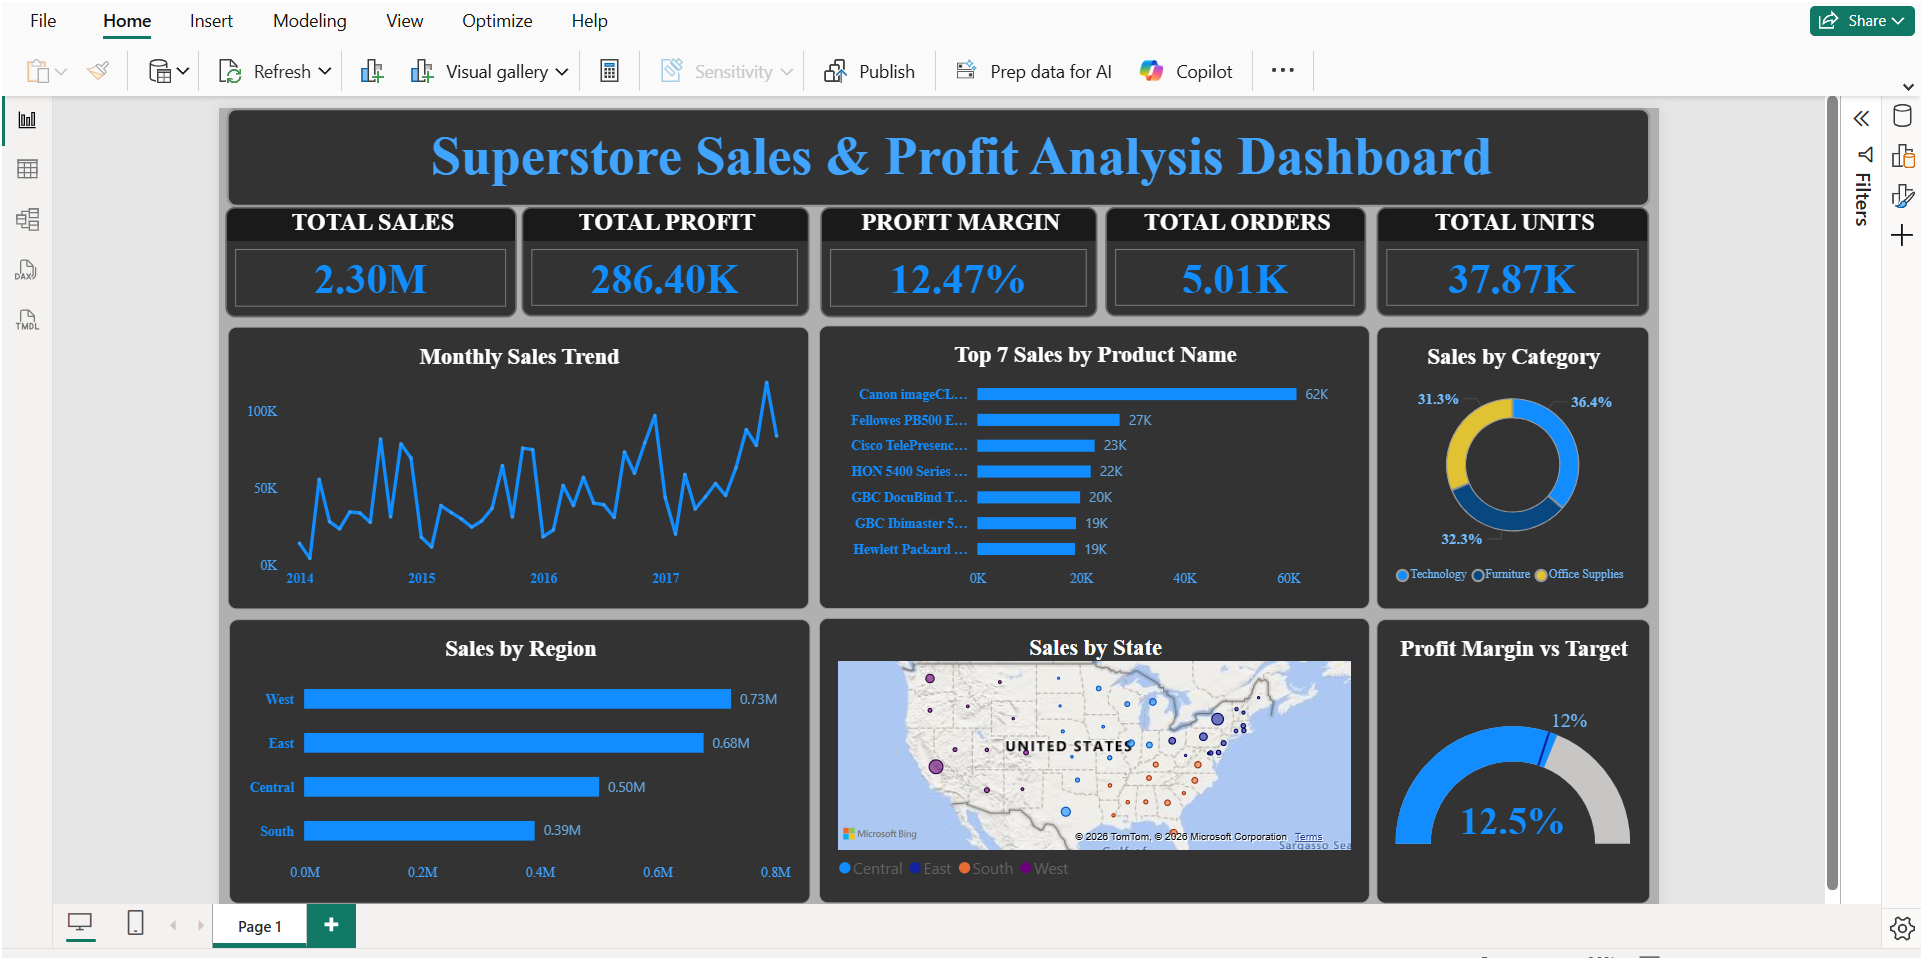

The dashboard page shown, as its layout file describes it:
{"tool":"powerbi","page":{"name":"Page 1","canvas":[1280,720],"ordinal":0},"visuals":[{"type":"cardVisual","title":"TOTAL SALES","fields":{"Data":["Sum(superstore_clean_data.Sales)"]},"box":[5.7,88.3,259,98],"z":0},{"type":"cardVisual","title":"TOTAL PROFIT","fields":{"Data":["Sum(superstore_clean_data.Profit)"]},"box":[269,88.1,255.8,97.7],"z":1000},{"type":"cardVisual","title":"PROFIT MARGIN","fields":{"Data":["superstore_clean_data.Profit Margin %"]},"box":[534.7,88.3,246.7,98.1],"z":2000},{"type":"cardVisual","title":"TOTAL ORDERS","fields":{"Data":["superstore_clean_data.Total Orders"]},"box":[787.8,88.1,231.6,97.7],"z":3000},{"type":"cardVisual","title":"TOTAL UNITS","fields":{"Data":["Sum(superstore_clean_data.Quantity)"]},"box":[1029.1,88.1,242.5,97.7],"z":4000},{"type":"lineChart","title":"Monthly Sales Trend","fields":{"Category":["superstore_clean_data.Order Date.Variation.Date Hierarchy.Year","superstore_clean_data.Order Date.Variation.Date Hierarchy.Month"],"Y":["Sum(superstore_clean_data.Sales)"]},"box":[7.9,194.7,517.1,251.3],"z":5000},{"type":"clusteredBarChart","title":"Sales by Region","fields":{"Category":["superstore_clean_data.Region"],"Y":["Sum(superstore_clean_data.Sales)"]},"box":[9.2,453.9,517.1,252.6],"z":5001},{"type":"donutChart","title":"Sales by Category","fields":{"Category":["superstore_clean_data.Category"],"Y":["Sum(superstore_clean_data.Sales)"]},"box":[1029.1,194.2,242.5,250.9],"z":5002},{"type":"clusteredBarChart","title":"Top 7 Sales by Product Name","fields":{"Category":["superstore_clean_data.Product Name"],"Y":["Sum(superstore_clean_data.Sales)"]},"box":[533.2,193,489.8,252.1],"z":5003},{"type":"gauge","title":"Profit Margin vs Target","fields":{"Y":["superstore_clean_data.Profit Margin %"]},"box":[1028.6,454.3,242.9,252.9],"z":5004},{"type":"map","title":"Sales by State","fields":{"Category":["superstore_clean_data.State"],"Series":["superstore_clean_data.Region"],"Size":["Sum(superstore_clean_data.Sales)"]},"box":[533.2,453.6,489.8,253.4],"z":5005},{"type":"shape","box":[7,0,1265.6,88.1],"z":5006},{"type":"textbox","box":[160,15,1000,60],"z":5007}]}

Visuals, with their boxes on the page's 1280x720 design canvas (x1, y1, x2, y2). These are canvas units, not pixel positions in the 1923x960 screenshot, which may show the page scaled, cropped or inside an application window:
"TOTAL SALES" cardVisual: (x1=6, y1=88, x2=265, y2=186)
"TOTAL PROFIT" cardVisual: (x1=269, y1=88, x2=525, y2=186)
"PROFIT MARGIN" cardVisual: (x1=535, y1=88, x2=781, y2=186)
"TOTAL ORDERS" cardVisual: (x1=788, y1=88, x2=1019, y2=186)
"TOTAL UNITS" cardVisual: (x1=1029, y1=88, x2=1272, y2=186)
"Monthly Sales Trend" lineChart: (x1=8, y1=195, x2=525, y2=446)
"Sales by Region" clusteredBarChart: (x1=9, y1=454, x2=526, y2=706)
"Sales by Category" donutChart: (x1=1029, y1=194, x2=1272, y2=445)
"Top 7 Sales by Product Name" clusteredBarChart: (x1=533, y1=193, x2=1023, y2=445)
"Profit Margin vs Target" gauge: (x1=1029, y1=454, x2=1272, y2=707)
"Sales by State" map: (x1=533, y1=454, x2=1023, y2=707)
shape: (x1=7, y1=0, x2=1273, y2=88)
textbox: (x1=160, y1=15, x2=1160, y2=75)
